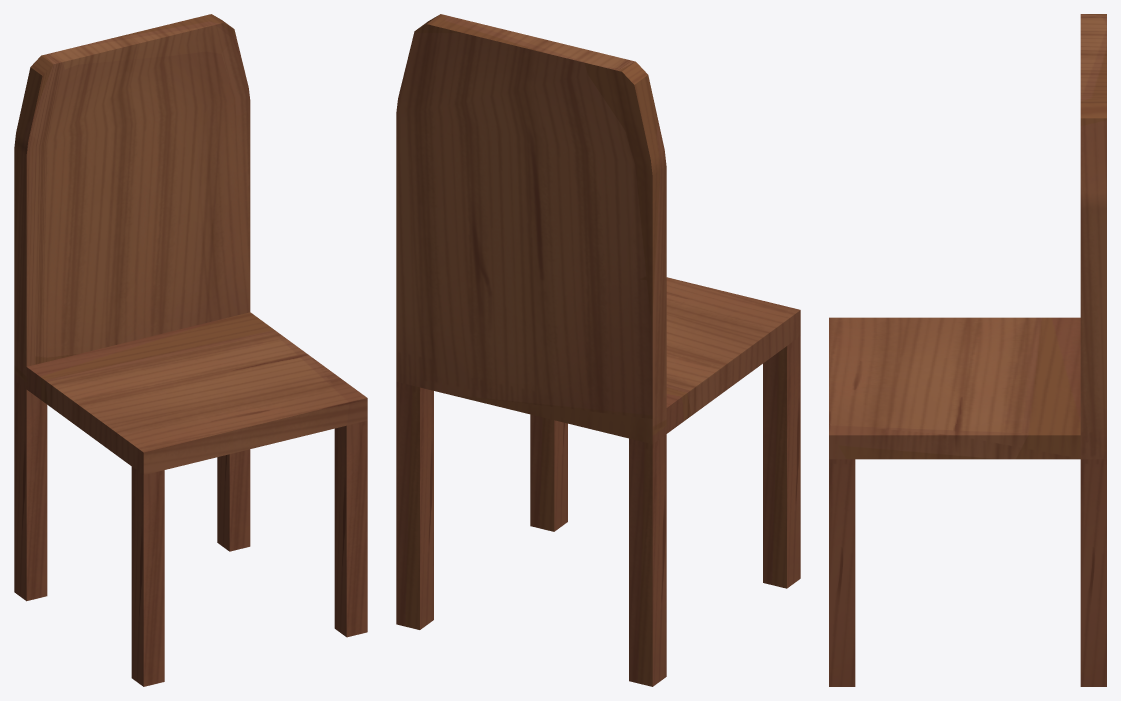
Rendered from chair.fbx.
3 renders of one model, left to right at view 1: azimuth 30°, elevation 25°; view 2: azimuth 150°, elevation 25°; view 3: azimuth 270°, elevation 25°, orthographic. The views are drawn at different scales.
Visible parts, largest first — view 1: Chair; view 2: Chair; view 3: Chair.
Part boxes in pixels (x1,y1,x2,y2): Chair: [14, 14, 367, 686]; Chair: [396, 14, 800, 686]; Chair: [829, 14, 1106, 686].
Bounding box in the file's own units: 55.99 × 127 × 55.99.
